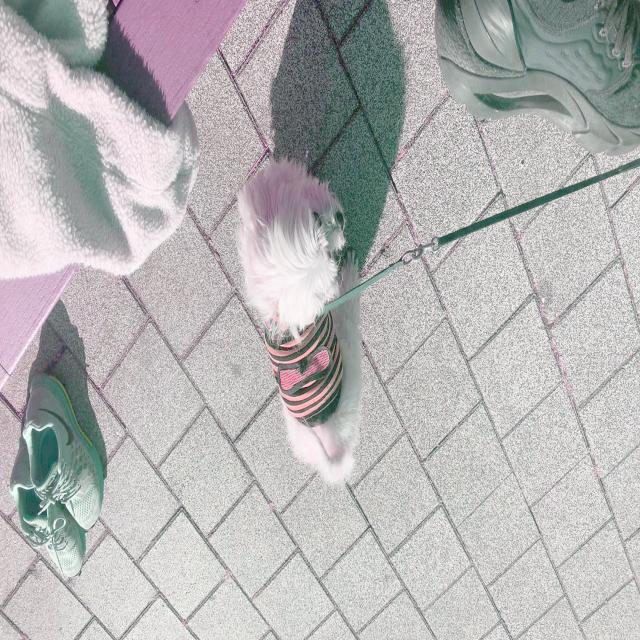Dog: (276, 151, 404, 483)
